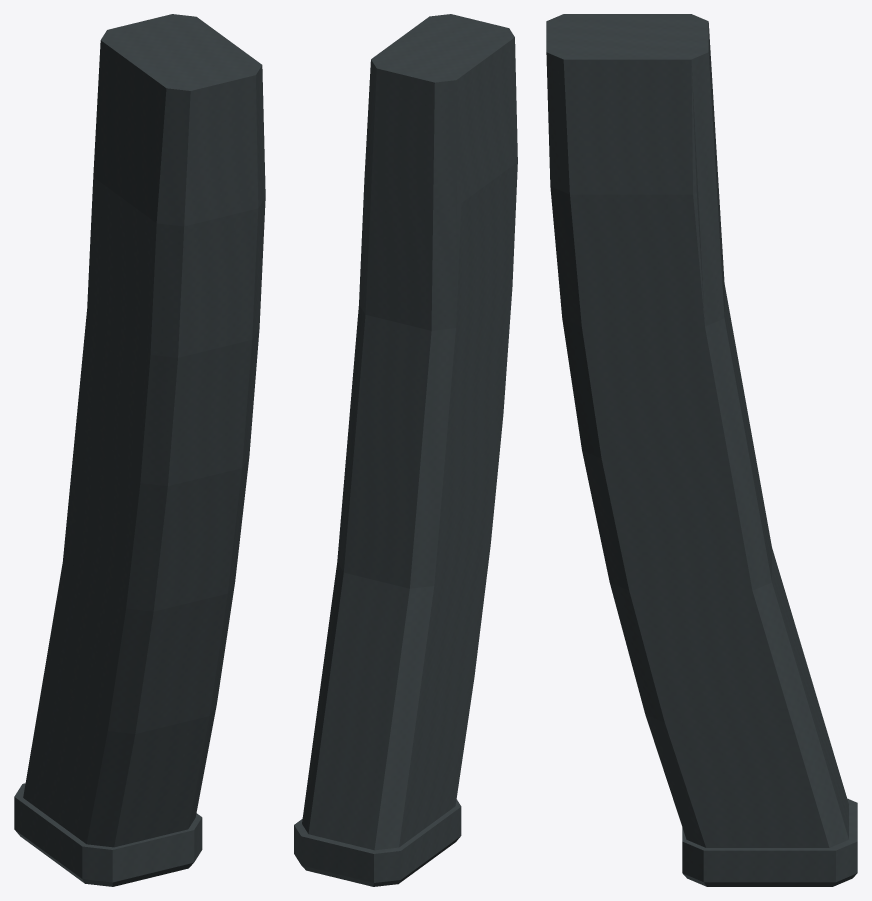
3 views of the same model, side by side, from view 1: azimuth 30°, elevation 25°; view 2: azimuth 150°, elevation 25°; view 3: azimuth 270°, elevation 25° (orthographic). The views are drawn at different scales.
Parts seen in each view (by area): view 1: mp5_30_individual_shell, mp5_30_individual_shell.001; view 2: mp5_30_individual_shell.001, mp5_30_individual_shell; view 3: mp5_30_individual_shell, mp5_30_individual_shell.001.
Boxes of the visible parts, bbox=[...] form: mp5_30_individual_shell: bbox=[14, 14, 265, 886]; mp5_30_individual_shell.001: bbox=[23, 309, 149, 843]; mp5_30_individual_shell.001: bbox=[302, 60, 512, 850]; mp5_30_individual_shell: bbox=[294, 14, 517, 886]; mp5_30_individual_shell: bbox=[546, 14, 857, 886]; mp5_30_individual_shell.001: bbox=[582, 23, 848, 847].
Bounding box in the file's own units: 0.0539 × 0.364 × 0.1246.
Materials: 1 (1 with a texture image).
